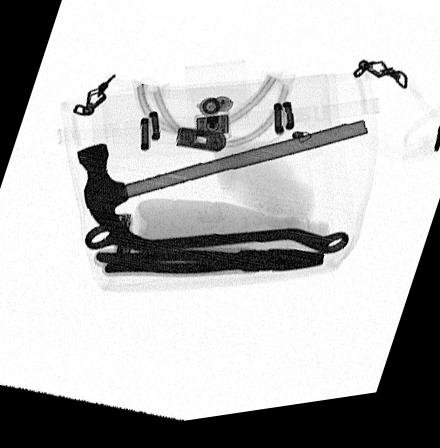Hammer: (78, 131, 367, 246)
Pliers: (97, 254, 326, 281)
Wrench: (83, 225, 349, 263)
